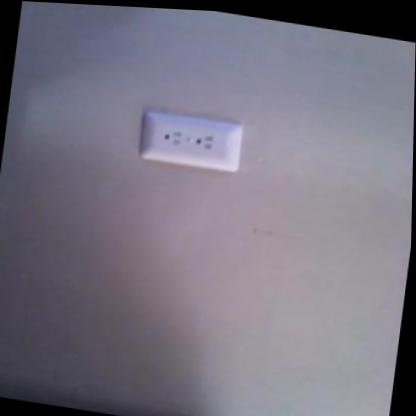OUTLET: (136, 108, 245, 174)
